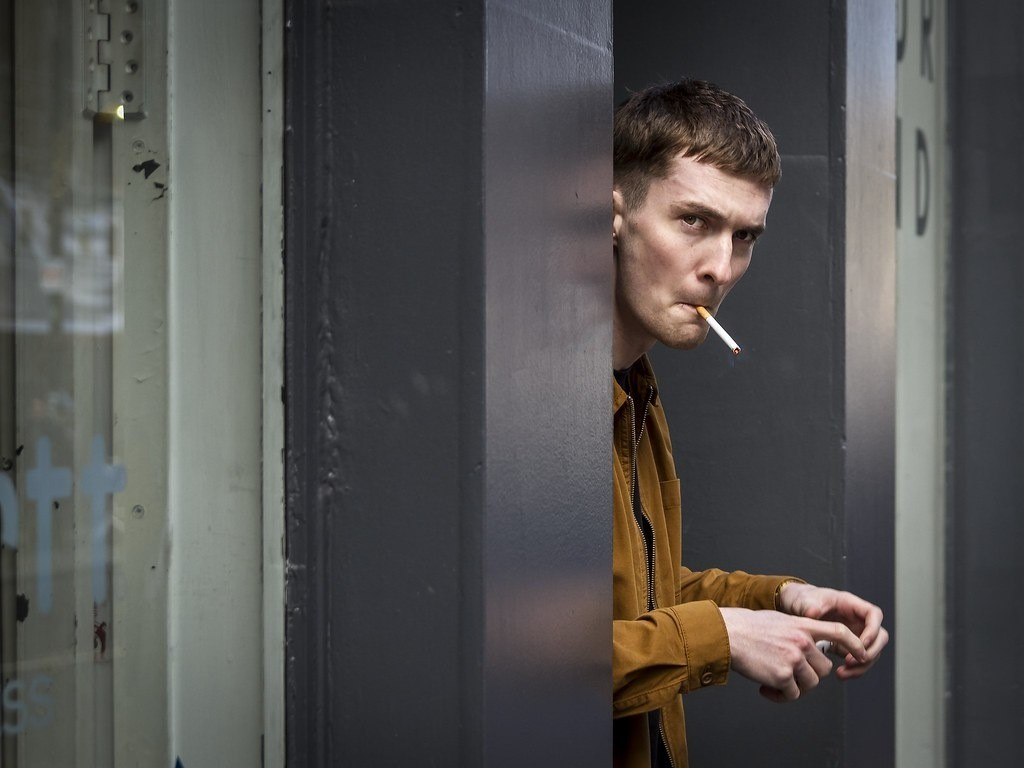face_no_mask: (613, 82, 773, 346)
